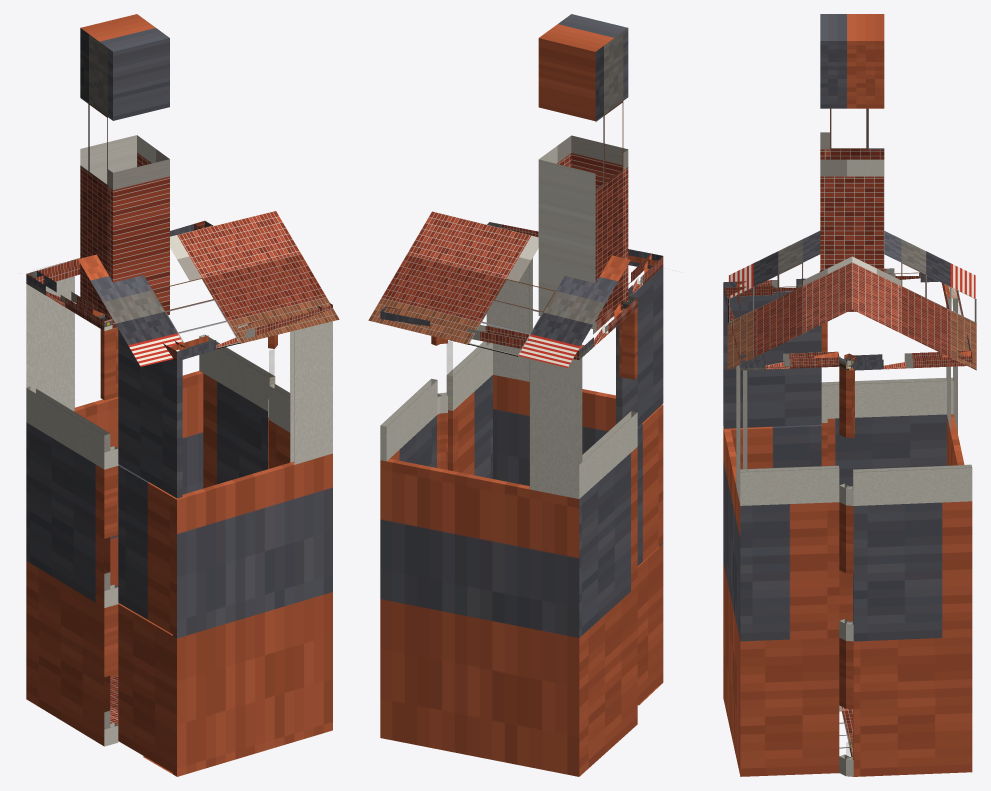
3 renders of one model, left to right at view 1: azimuth 30°, elevation 25°; view 2: azimuth 150°, elevation 25°; view 3: azimuth 270°, elevation 25°, orthographic. The views are drawn at different scales.
Parts seen in each view (by area): view 1: 601808513__wall_3_xb, 601808513__wall_0_xb, 601808513__wall_2_xb, 601808513__chimney_0_xb, 601808513_roof_-1_xb, 601808513__wall_8_xb, 601808513__wall_7_xb, 601808513__wall_1_xb, 601808513__wall_4_xb, 601808513__cornice_3, 601808513__cornice_0, 601808513__cornice_8; view 2: 601808513__wall_8_xb, 601808513__chimney_0_xb, 601808513__wall_0_xb, 601808513_roof_1_xb, 601808513__wall_2_xb, 601808513__wall_3_xb, 601808513__wall_4_xb, 601808513__wall_7_xb, 601808513__cornice_8, 601808513__wall_1_xb, 601808513__cornice_0, 601808513__wall_5_xb (+2 smaller); view 3: 601808513__wall_7_xb, 601808513__wall_4_xb, 601808513__chimney_0_xb, 601808513__wall_0_xb, 601808513__wall_2_xb, 601808513_roof_1_xb, 601808513_roof_-1_xb, 601808513__wall_3_xb, 601808513__wall_6_xb, 601808513__wall_5_xb, 601808513__cornice_7, 601808513__cornice_4 (+3 smaller).
Boxes of the visible parts, x1=… form: 601808513__wall_3_xb: x1=173, y1=321, x2=332, y2=776; 601808513__wall_0_xb: x1=26, y1=387, x2=110, y2=745; 601808513__wall_2_xb: x1=118, y1=329, x2=182, y2=774; 601808513__chimney_0_xb: x1=80, y1=14, x2=169, y2=328; 601808513_roof_-1_xb: x1=78, y1=211, x2=339, y2=366; 601808513__wall_8_xb: x1=26, y1=276, x2=203, y2=677; 601808513__wall_7_xb: x1=199, y1=334, x2=275, y2=488; 601808513__wall_1_xb: x1=100, y1=327, x2=118, y2=746; 601808513__wall_4_xb: x1=269, y1=383, x2=290, y2=468; 601808513__cornice_3: x1=170, y1=303, x2=332, y2=361; 601808513__cornice_0: x1=26, y1=270, x2=112, y2=330; 601808513__cornice_8: x1=26, y1=221, x2=212, y2=284; 601808513__wall_8_xb: x1=380, y1=358, x2=582, y2=776; 601808513__chimney_0_xb: x1=538, y1=14, x2=628, y2=328; 601808513__wall_0_xb: x1=579, y1=411, x2=637, y2=776; 601808513_roof_1_xb: x1=368, y1=211, x2=630, y2=367; 601808513__wall_2_xb: x1=616, y1=266, x2=663, y2=704; 601808513__wall_3_xb: x1=486, y1=258, x2=663, y2=685; 601808513__wall_4_xb: x1=446, y1=341, x2=492, y2=478; 601808513__wall_7_xb: x1=380, y1=379, x2=437, y2=467; 601808513__cornice_8: x1=380, y1=306, x2=584, y2=359; 601808513__wall_1_xb: x1=619, y1=308, x2=637, y2=379; 601808513__cornice_0: x1=579, y1=296, x2=637, y2=359; 601808513__wall_5_xb: x1=437, y1=338, x2=447, y2=469; 601808513__wall_7_xb: x1=853, y1=464, x2=972, y2=776; 601808513__wall_4_xb: x1=740, y1=465, x2=839, y2=776; 601808513__chimney_0_xb: x1=820, y1=14, x2=884, y2=311; 601808513__wall_0_xb: x1=821, y1=377, x2=953, y2=621; 601808513__wall_2_xb: x1=723, y1=290, x2=821, y2=469; 601808513_roof_1_xb: x1=852, y1=231, x2=976, y2=370; 601808513_roof_-1_xb: x1=727, y1=231, x2=852, y2=370; 601808513__wall_3_xb: x1=723, y1=365, x2=747, y2=775; 601808513__wall_6_xb: x1=846, y1=367, x2=854, y2=776; 601808513__wall_5_xb: x1=839, y1=367, x2=851, y2=775; 601808513__cornice_7: x1=852, y1=350, x2=972, y2=370; 601808513__cornice_4: x1=739, y1=351, x2=839, y2=370.
Bounding box in the file's own units: 0.5247 × 1.75 × 0.5931.
Materials: 1 (1 with a texture image).
